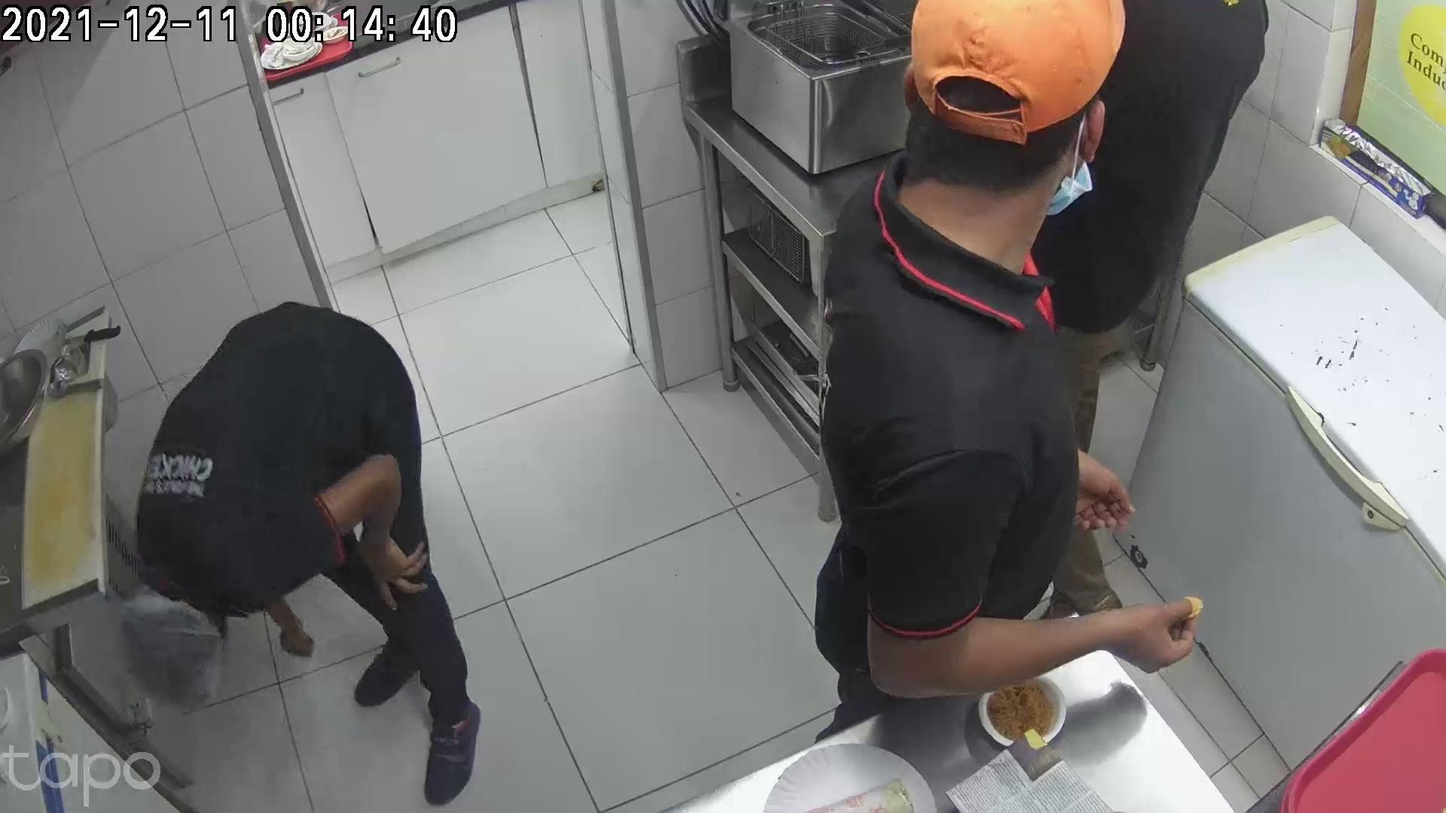no_gloves: (1082, 603, 1196, 675)
